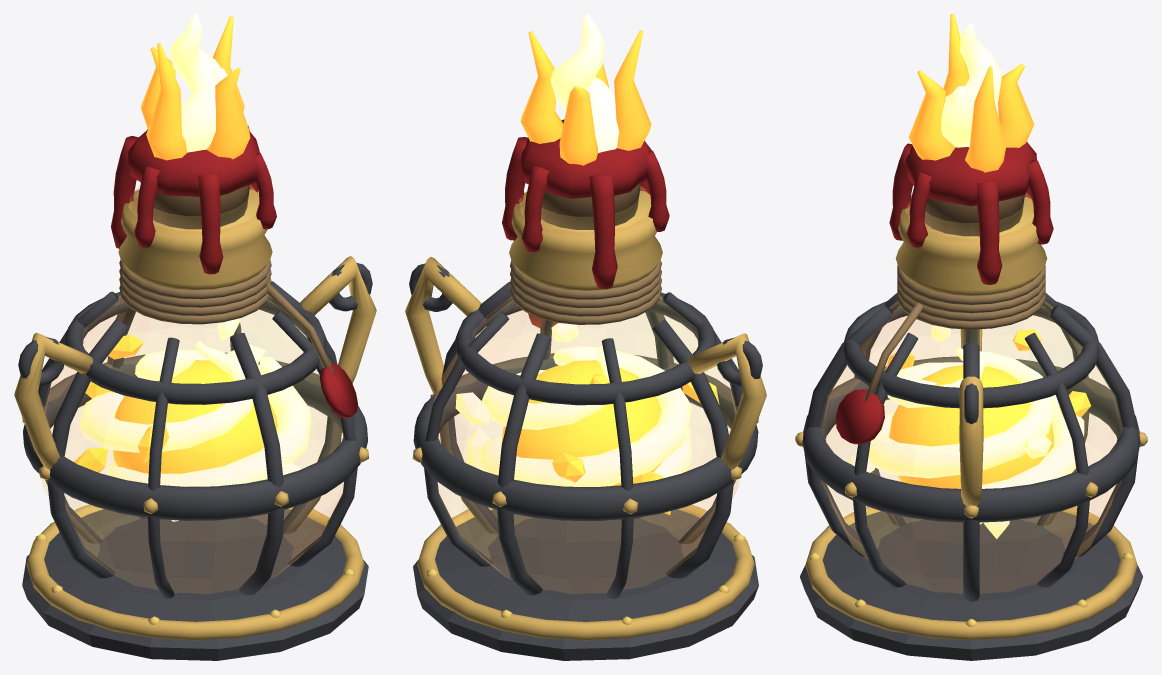
Rendered from phial_ignis.glb.
3 renders of one model, left to right at view 1: azimuth 30°, elevation 25°; view 2: azimuth 150°, elevation 25°; view 3: azimuth 270°, elevation 25°, orthographic.
Parts seen in each view (by area): view 1: PhialGlass, PhialCoaster, CageEquator, PhialCoasterRim, PhialCollar, CageShoulderBand, PhialMagmaCore, MagmaSwirl_0, MagmaSwirl_1, PhialWaxSeal, IgniteSpiral, CageMeridian_6 (+26 smaller); view 2: PhialGlass, PhialCoaster, CageEquator, PhialCoasterRim, PhialCollar, MagmaSwirl_1, CageShoulderBand, PhialMagmaCore, PhialWaxSeal, IgniteSpiral, CageMeridian_2, CageMeridian_4 (+25 smaller); view 3: PhialGlass, PhialCoaster, CageEquator, PhialCoasterRim, PhialCollar, MagmaSwirl_0, PhialMagmaCore, CageShoulderBand, PhialWaxSeal, CageMeridian_2, CageMeridian_6, MagmaSwirl_1 (+24 smaller).
Boxes of the visible parts, x1=… form: PhialGlass: x1=42, y1=185, x2=343, y2=593; PhialCoaster: x1=22, y1=509, x2=368, y2=660; CageEquator: x1=23, y1=352, x2=367, y2=520; PhialCoasterRim: x1=26, y1=504, x2=364, y2=640; PhialCollar: x1=118, y1=189, x2=272, y2=290; CageShoulderBand: x1=64, y1=292, x2=326, y2=404; PhialMagmaCore: x1=113, y1=360, x2=277, y2=473; MagmaSwirl_0: x1=107, y1=349, x2=311, y2=486; MagmaSwirl_1: x1=79, y1=341, x2=253, y2=521; PhialWaxSeal: x1=128, y1=129, x2=259, y2=196; IgniteSpiral: x1=170, y1=14, x2=220, y2=152; CageMeridian_6: x1=230, y1=333, x2=284, y2=595; PhialGlass: x1=434, y1=186, x2=739, y2=593; PhialCoaster: x1=413, y1=509, x2=758, y2=660; CageEquator: x1=413, y1=353, x2=758, y2=520; PhialCoasterRim: x1=417, y1=504, x2=754, y2=640; PhialCollar: x1=509, y1=191, x2=662, y2=290; MagmaSwirl_1: x1=480, y1=346, x2=692, y2=486; CageShoulderBand: x1=455, y1=292, x2=716, y2=405; PhialMagmaCore: x1=501, y1=360, x2=661, y2=485; PhialWaxSeal: x1=520, y1=119, x2=652, y2=198; IgniteSpiral: x1=550, y1=14, x2=619, y2=153; CageMeridian_2: x1=497, y1=333, x2=551, y2=595; CageMeridian_4: x1=652, y1=319, x2=733, y2=578; PhialGlass: x1=820, y1=192, x2=1122, y2=593; PhialCoaster: x1=800, y1=511, x2=1142, y2=660; CageEquator: x1=802, y1=356, x2=1140, y2=522; PhialCoasterRim: x1=805, y1=506, x2=1137, y2=639; PhialCollar: x1=895, y1=197, x2=1047, y2=295; MagmaSwirl_0: x1=868, y1=348, x2=1056, y2=524; PhialMagmaCore: x1=889, y1=365, x2=1053, y2=488; CageShoulderBand: x1=843, y1=301, x2=1099, y2=408; PhialWaxSeal: x1=906, y1=141, x2=1036, y2=206; CageMeridian_2: x1=1048, y1=305, x2=1138, y2=556; CageMeridian_6: x1=804, y1=305, x2=894, y2=556; MagmaSwirl_1: x1=887, y1=357, x2=1084, y2=488.
Size of the model in its own units: 0.1611 by 0.2473 by 0.1394.
